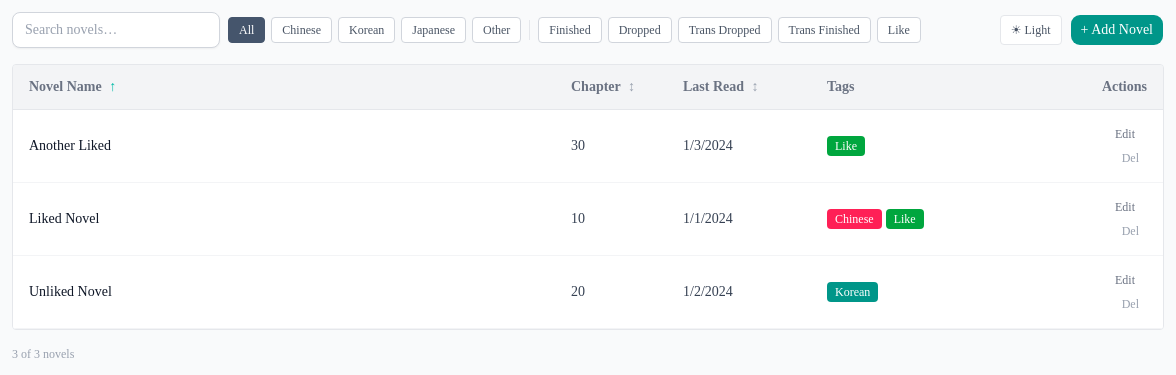
Test: Like filter › filters to only liked novels when the Like pill is clicked
This screenshot has width=1176, height=375.
Click the button "Like" at (899, 30), box [877,17,921,43]
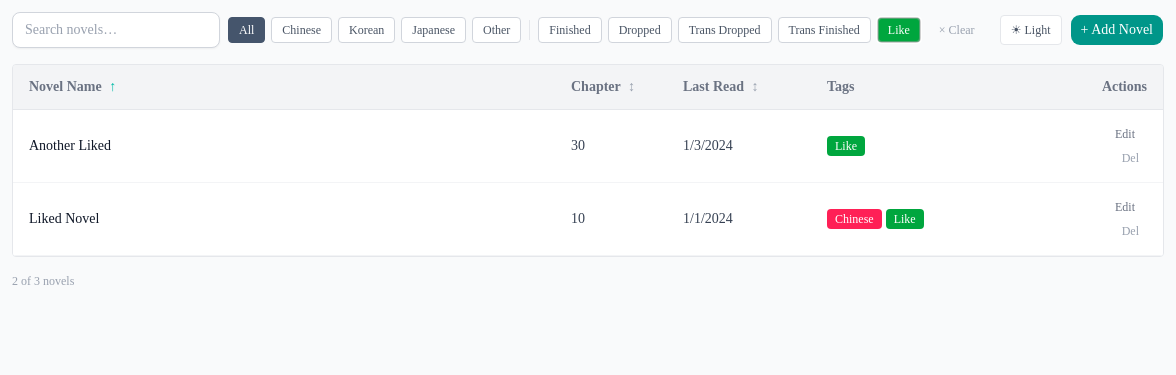
Expected: the text "Liked Novel" is shown, [13,182,555,256]
Result: the text "Unliked Novel" is gone
